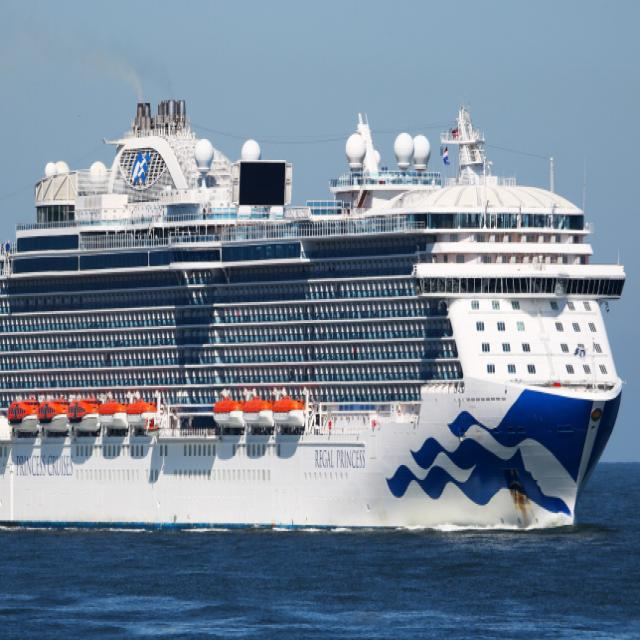cruises: (1, 97, 634, 542)
